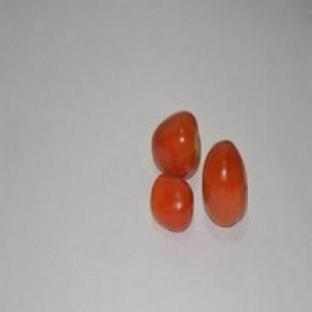Tomato: (204, 141, 247, 227), (152, 112, 200, 178), (151, 175, 193, 232)
